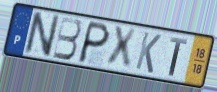B: (51, 15, 82, 62)
K: (134, 30, 163, 76)
N: (23, 10, 62, 59)
P: (75, 20, 112, 65)
T: (168, 35, 189, 78)
X: (105, 25, 138, 71)
